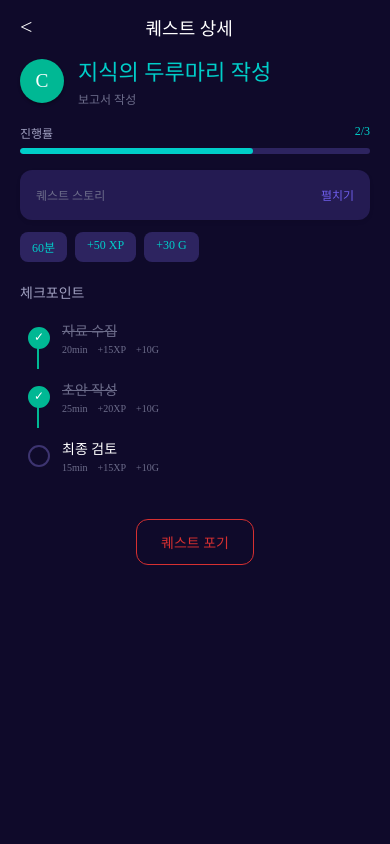
Scenario: QuestDetailScreen › quest complete overlay shows "퀘스트 클리어!" with rewards
Note: Complete the last checkpoint
Click the text "최종 검토" at x=90, y=450, box [62,442,117,457]
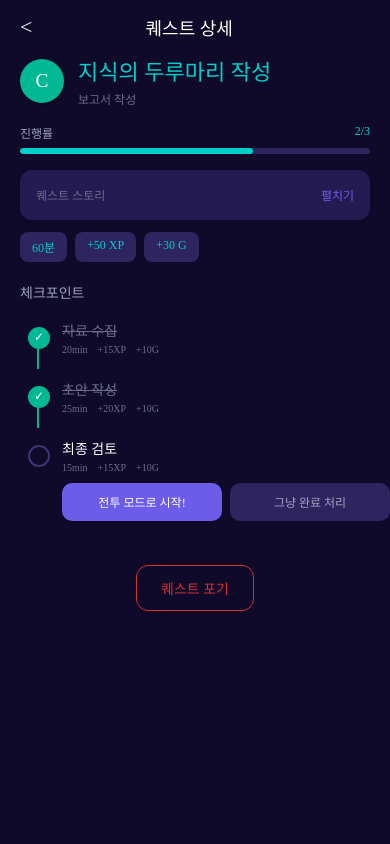
Click the text "그냥 완료 처리" at x=310, y=502, box [274,493,346,511]
Wait 2000 ms
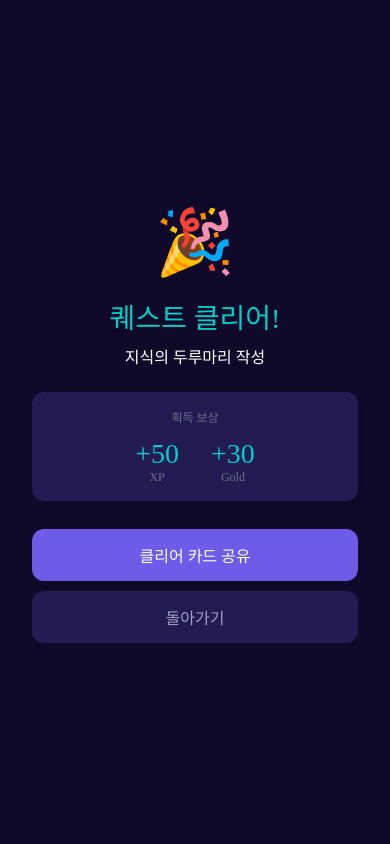
expect the text "퀘스트 클리어!" is shown: met, box [110,296,280,336]
expect the text "Gold" is shown: met, box [221,470,245,484]
expect the text "클리어 카드 공유" is shown: met, box [140,542,250,566]
